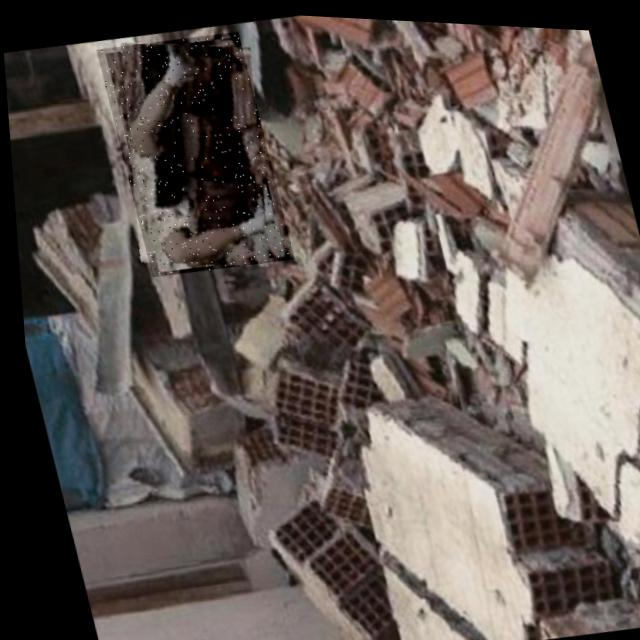Person in Rubble: (94, 22, 292, 280)
